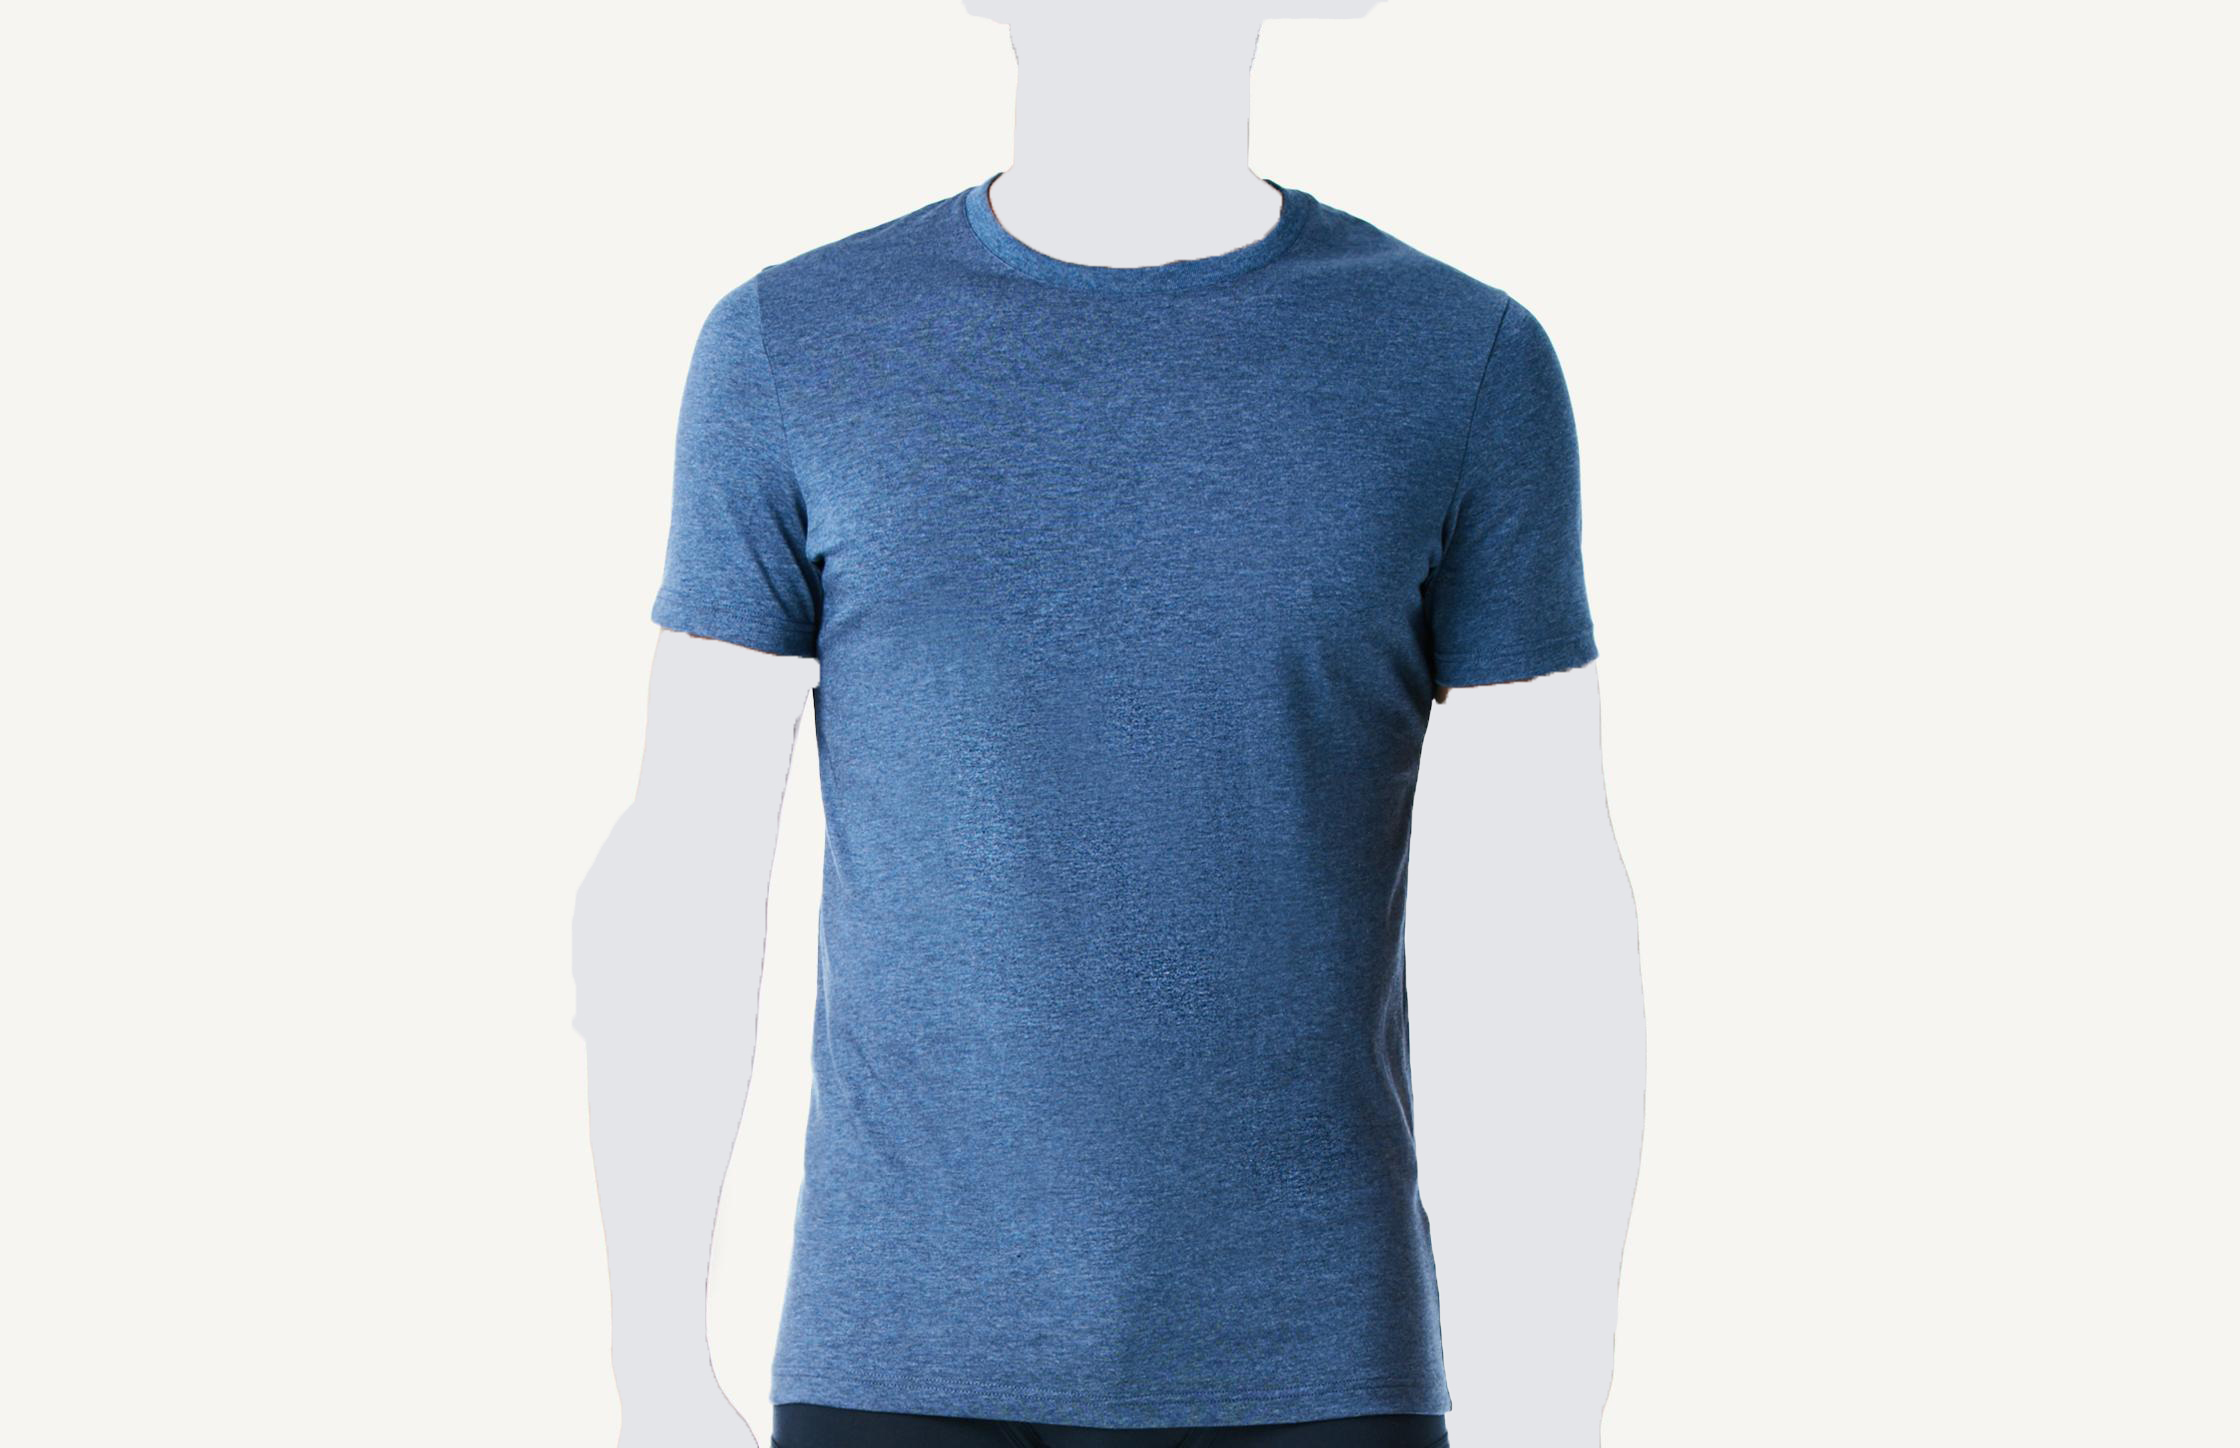teeshirt: (638, 160, 1611, 1430)
